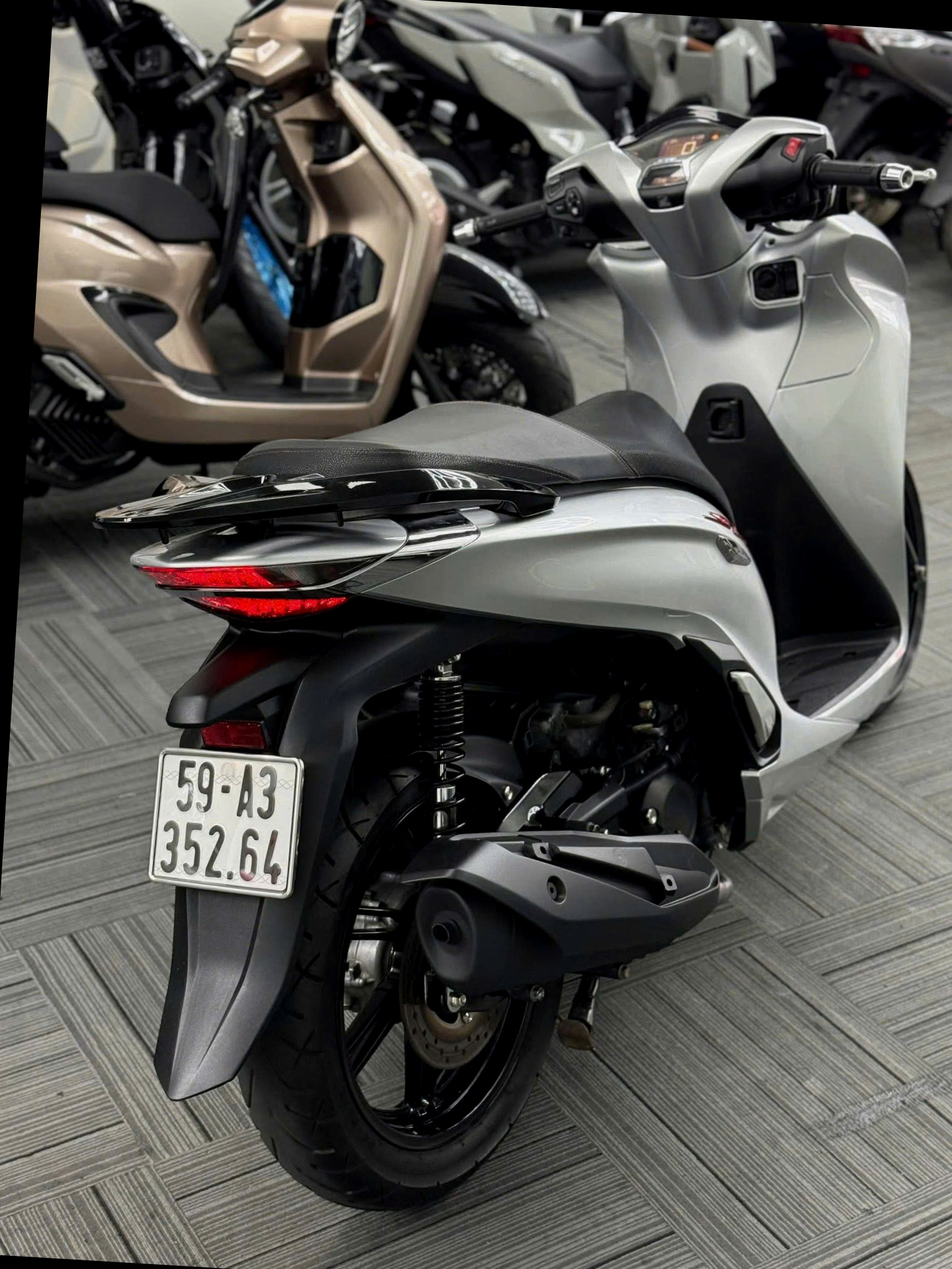Bien-so: (126, 802, 283, 952)
